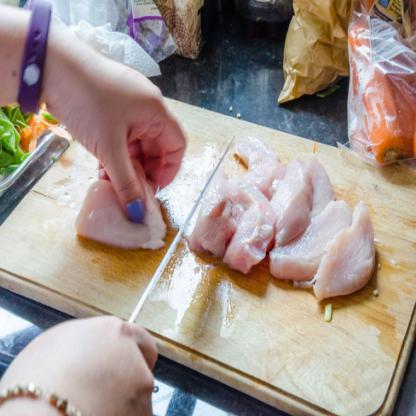chicken: (78, 160, 168, 256), (310, 214, 390, 310), (272, 201, 348, 289), (222, 120, 282, 202), (226, 178, 268, 279), (266, 154, 304, 244)
